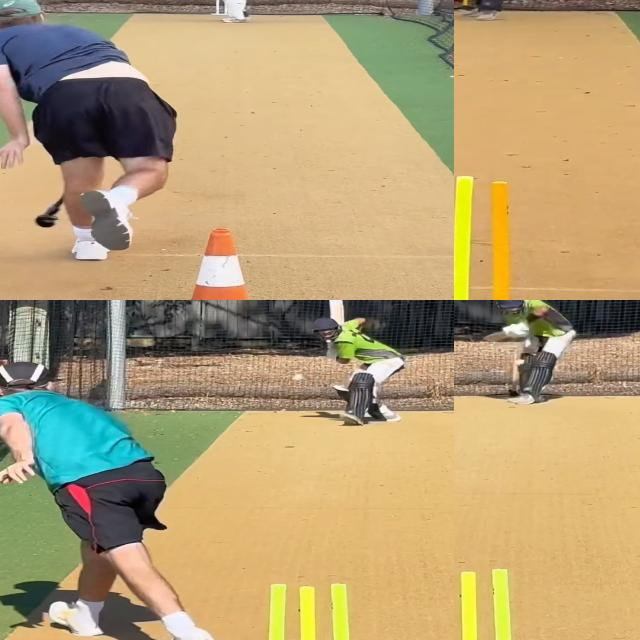Cricket ball: (288, 374, 307, 384), (513, 360, 526, 367)
Stumps: (454, 172, 524, 300), (249, 580, 375, 640), (454, 566, 533, 640)
